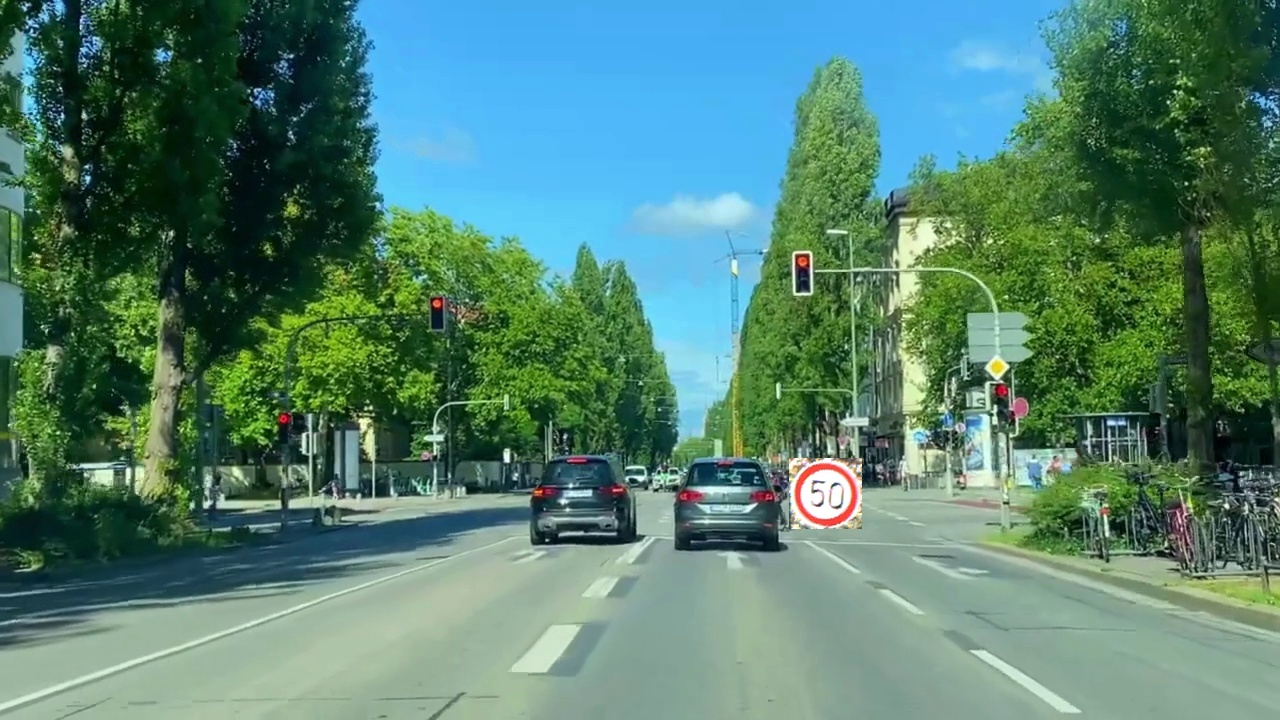Speed 50: (789, 458, 862, 529)
